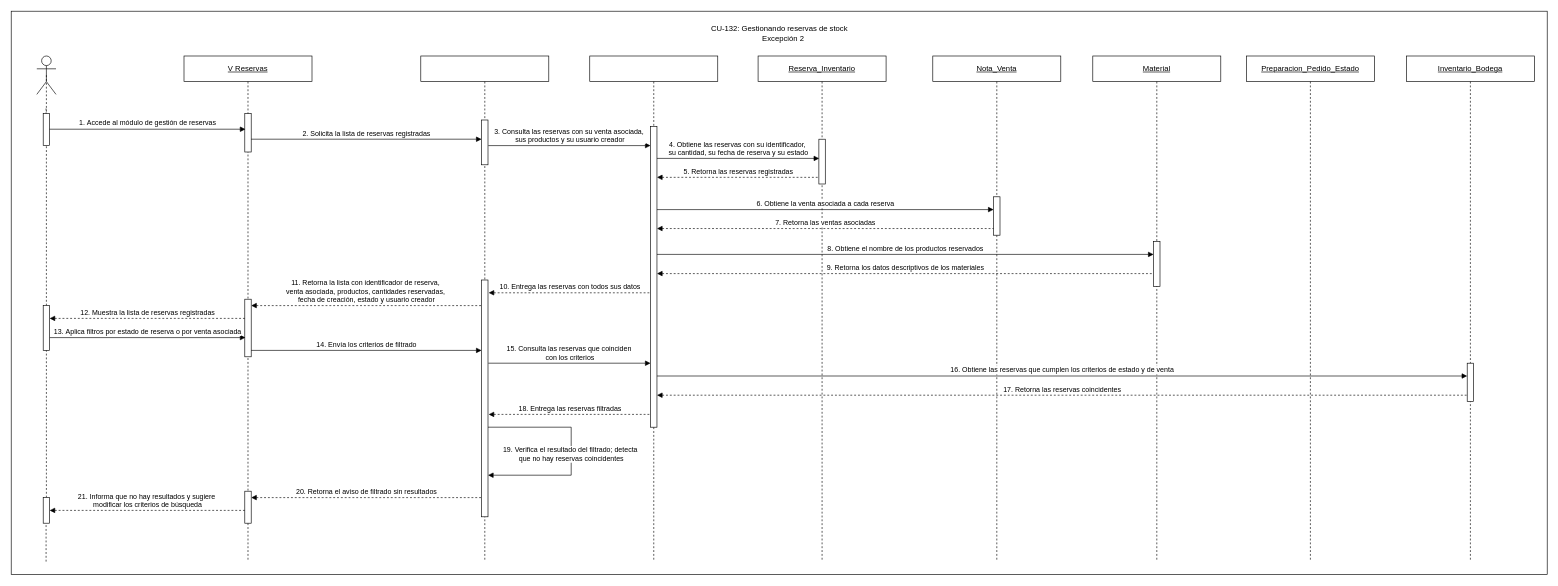
The diagram is 1558 pixels wide and 586 high, and some of its shapes have lost their labels. The box of each missing label's shape, as (x1, y1, x2, y2) in pixels:
C_Postgre: (589, 55, 718, 562)
C_reservas: (420, 55, 549, 562)
Gerencia/JOP: (36, 55, 56, 94)
